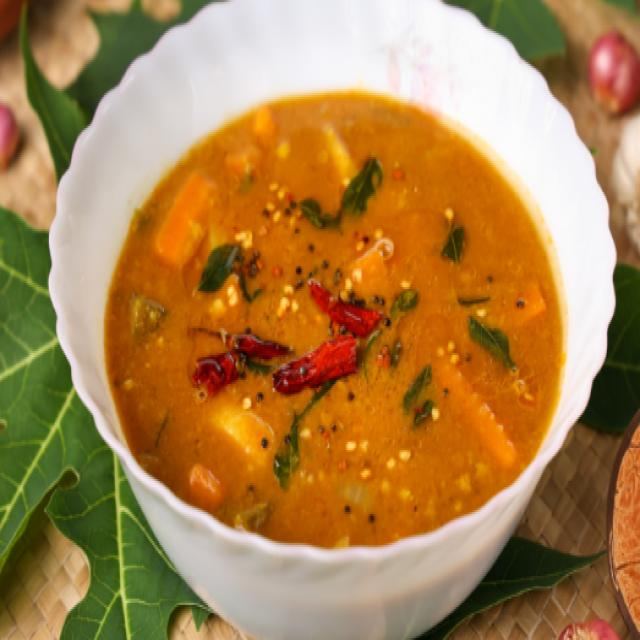sambar: (161, 20, 579, 575)
